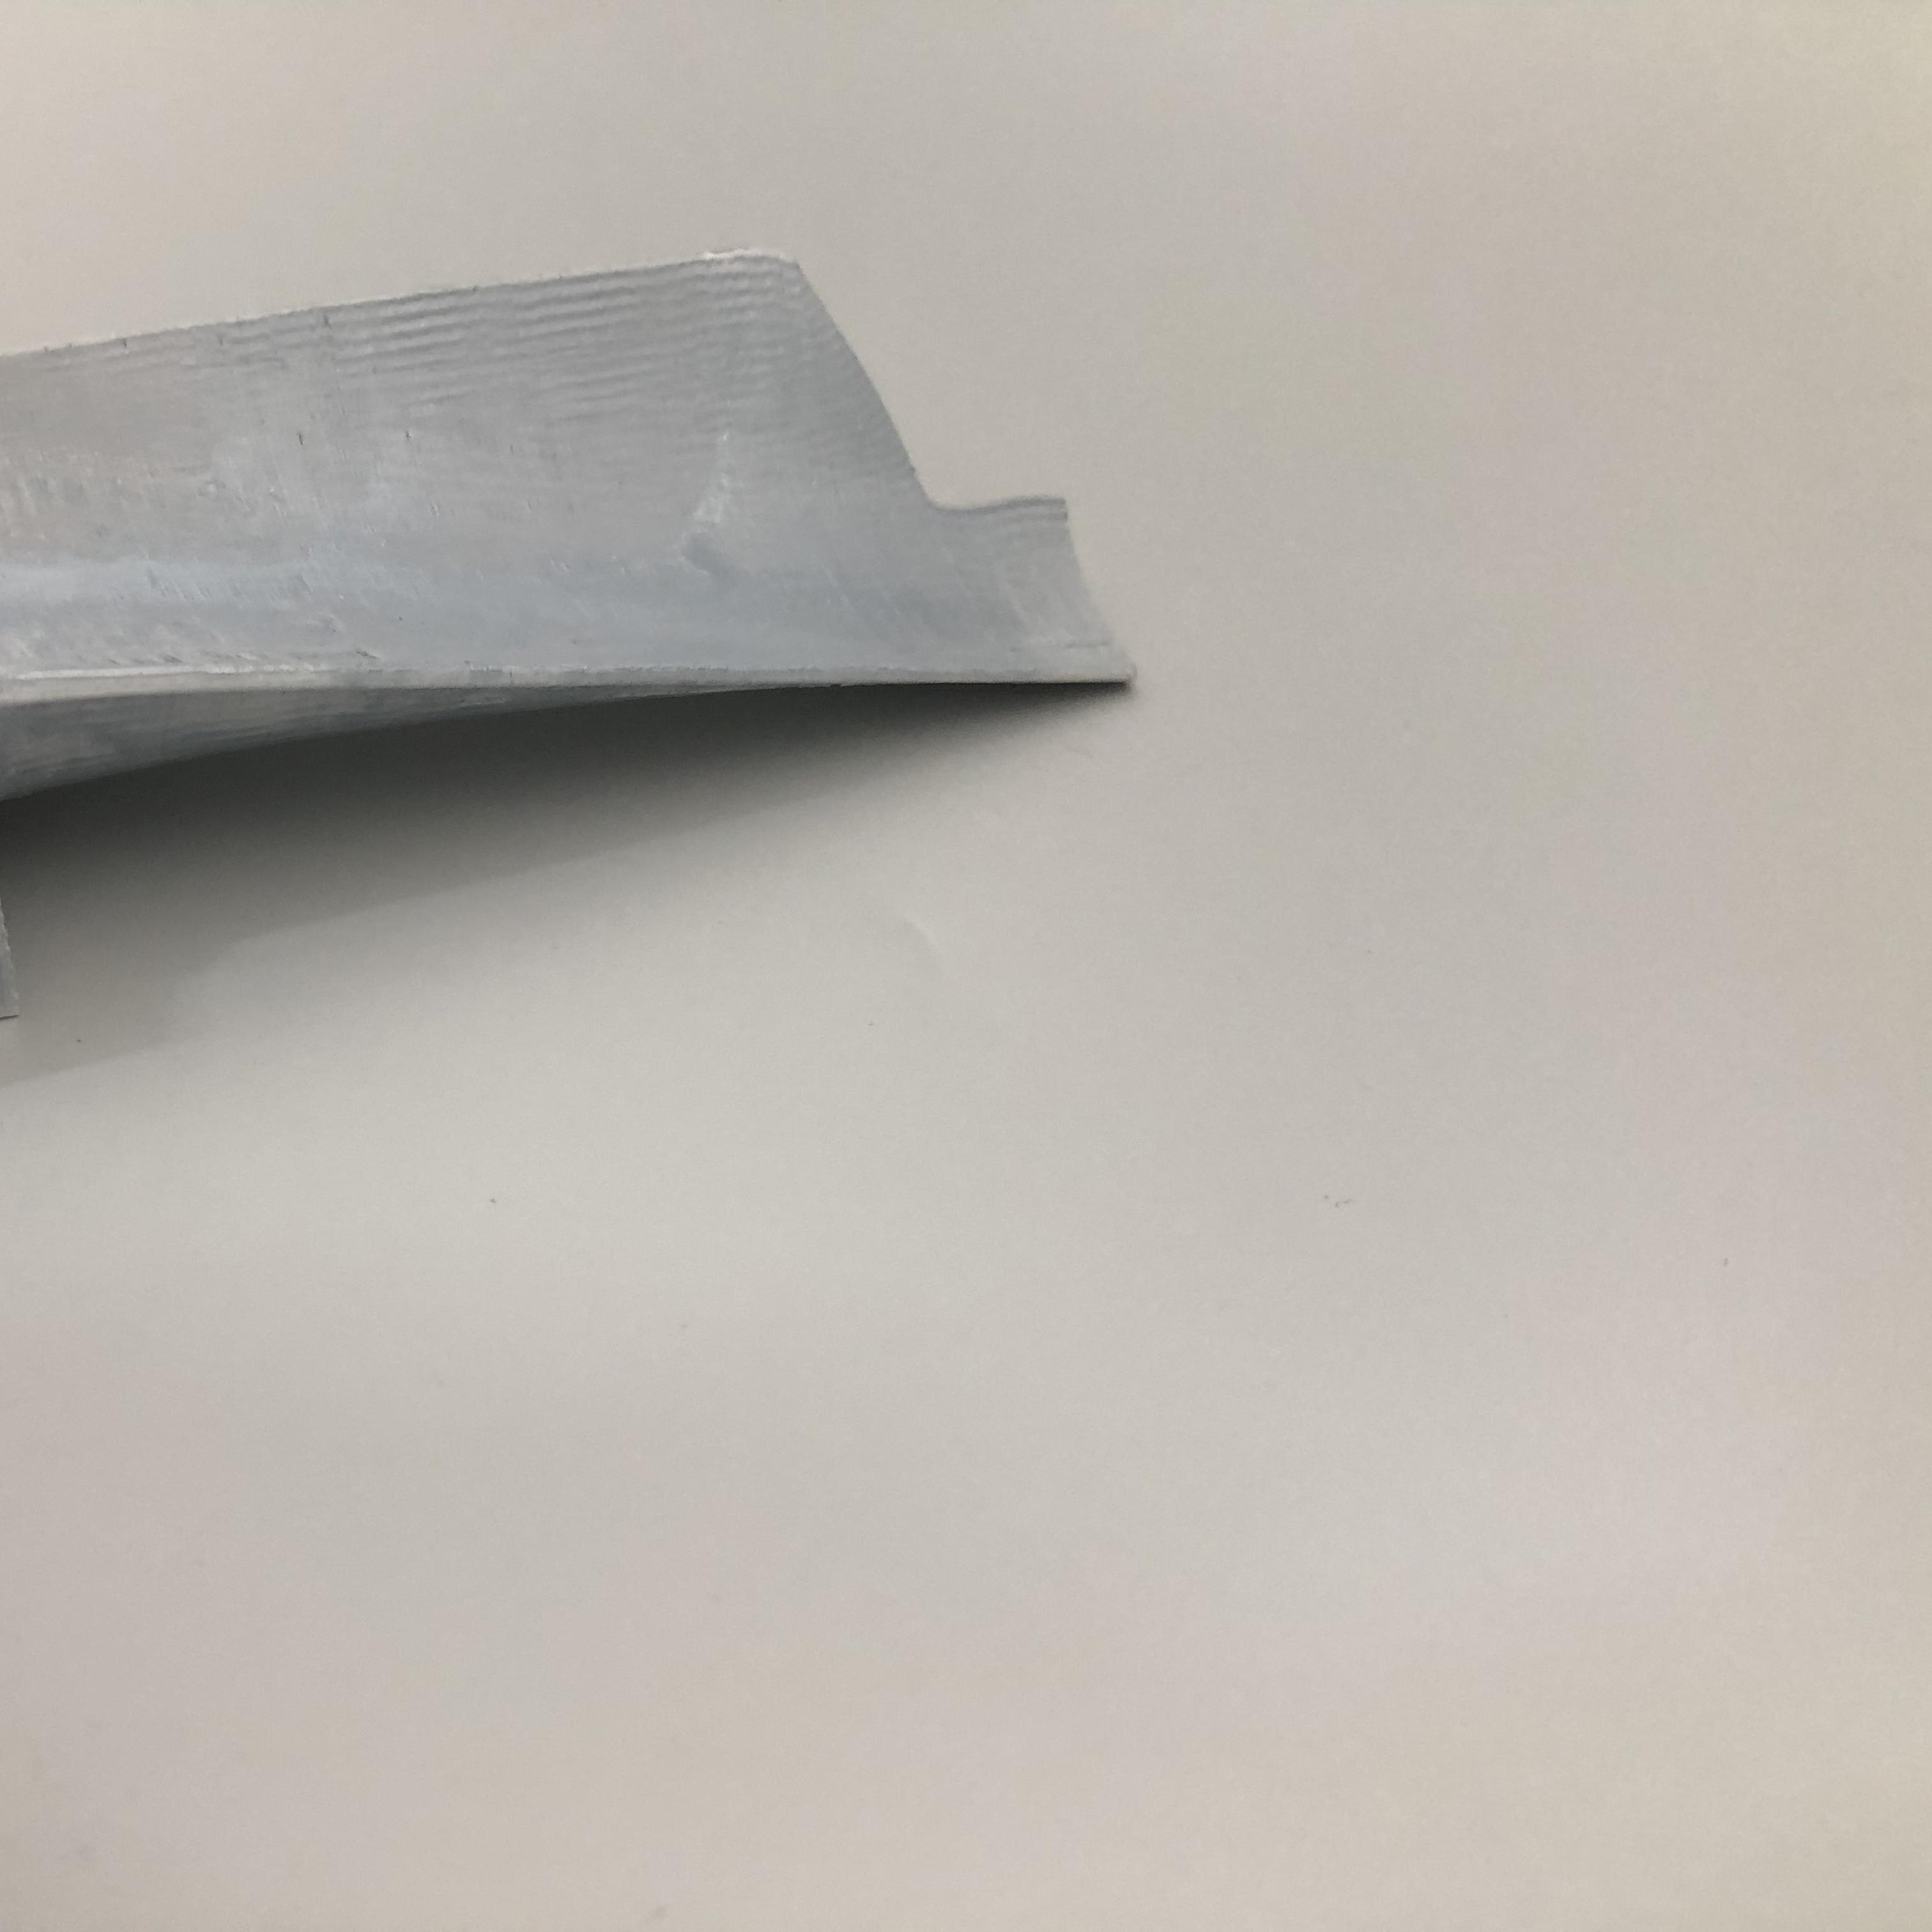fracture: (791, 257, 1074, 518)
